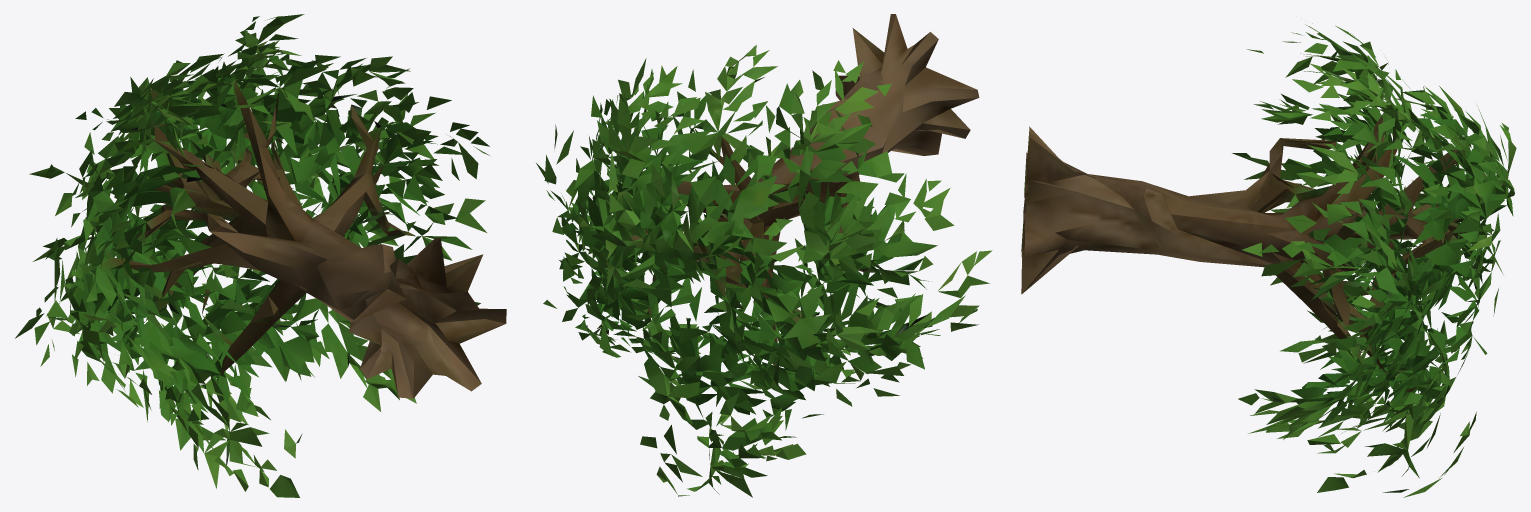
The picture shows the model from 3 angles, left to right: view 1: azimuth 30°, elevation 25°; view 2: azimuth 150°, elevation 25°; view 3: azimuth 270°, elevation 25°; orthographic projection. The views are drawn at different scales.
Parts seen in each view (by area): view 1: geometry_0; view 2: geometry_0; view 3: geometry_0.
Part boxes in pixels (x1,y1,x2,y2): geometry_0: (15,14,506,497); geometry_0: (536,14,992,497); geometry_0: (1021,23,1516,497).
Size of the model in its own units: 0.8449 by 0.8362 by 0.8814.
1 material, 1 textured.
